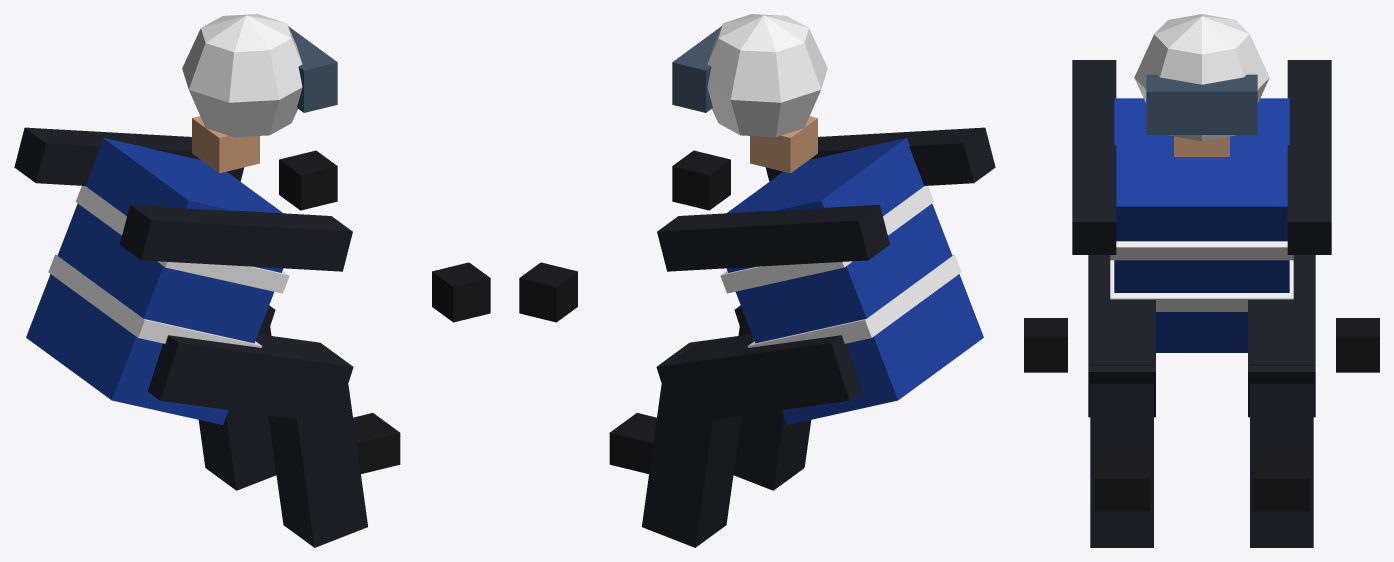
File: jetski_rider_vina.obj
3 views of the same model, side by side, from view 1: azimuth 30°, elevation 25°; view 2: azimuth 150°, elevation 25°; view 3: azimuth 270°, elevation 25° (orthographic). The views are drawn at different scales.
Visible parts, largest first — view 1: jetski_rider_vina; view 2: jetski_rider_vina; view 3: jetski_rider_vina.
Part boxes in pixels (x1,y1,x2,y2): jetski_rider_vina: (14,14,490,547); jetski_rider_vina: (519,14,995,547); jetski_rider_vina: (1024,14,1379,547).
Size of the model in its own units: 0.9894 by 1.4 by 0.893.
